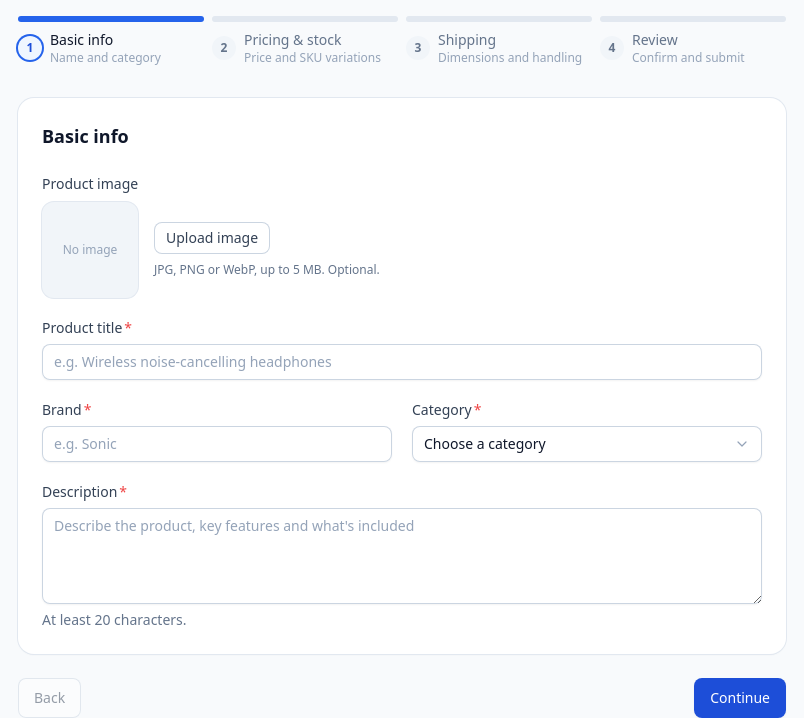
Test: ProductWizardPage › blocks progress until the current step is valid
(page scrolled)
Click the button "Continue".
click(740, 698)  # box left=694, top=678, right=786, bottom=717
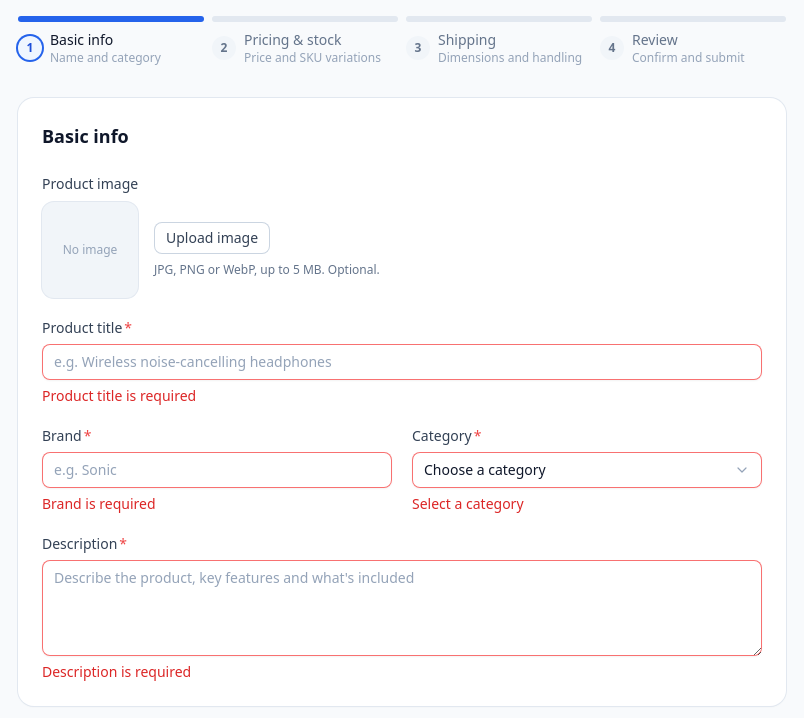
Expected: the text "Product title is required" is shown, left=42, top=386, right=196, bottom=405
Expected: the text "Brand is required" is shown, left=42, top=494, right=156, bottom=513
Expected: the text "Select a category" is shown, left=412, top=494, right=524, bottom=513
